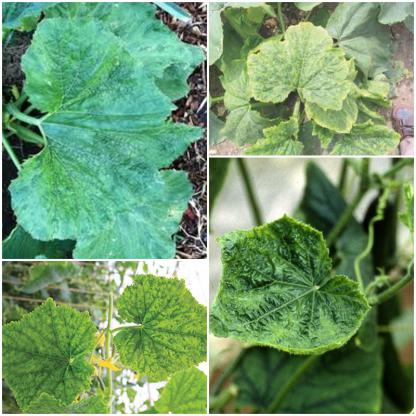CassavaMosaicDisease: (223, 229, 320, 344), (35, 36, 143, 135), (254, 21, 348, 112), (126, 282, 215, 370), (5, 320, 87, 395), (45, 147, 126, 220)
